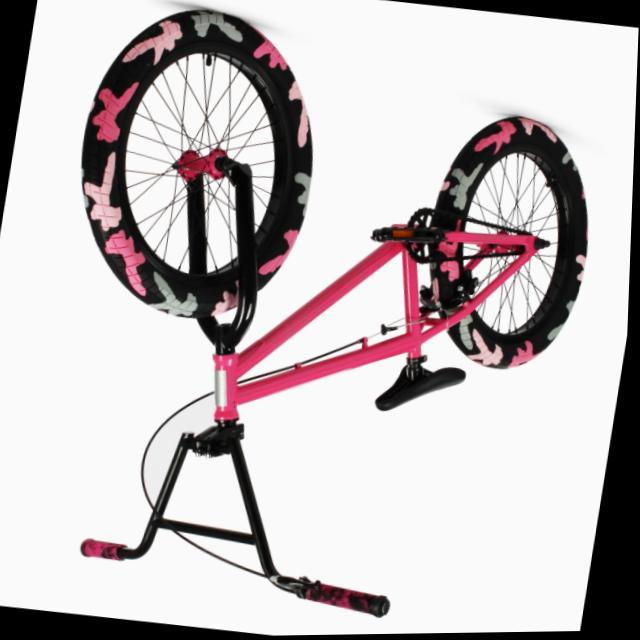bmx-bike: (10, 0, 627, 640)
